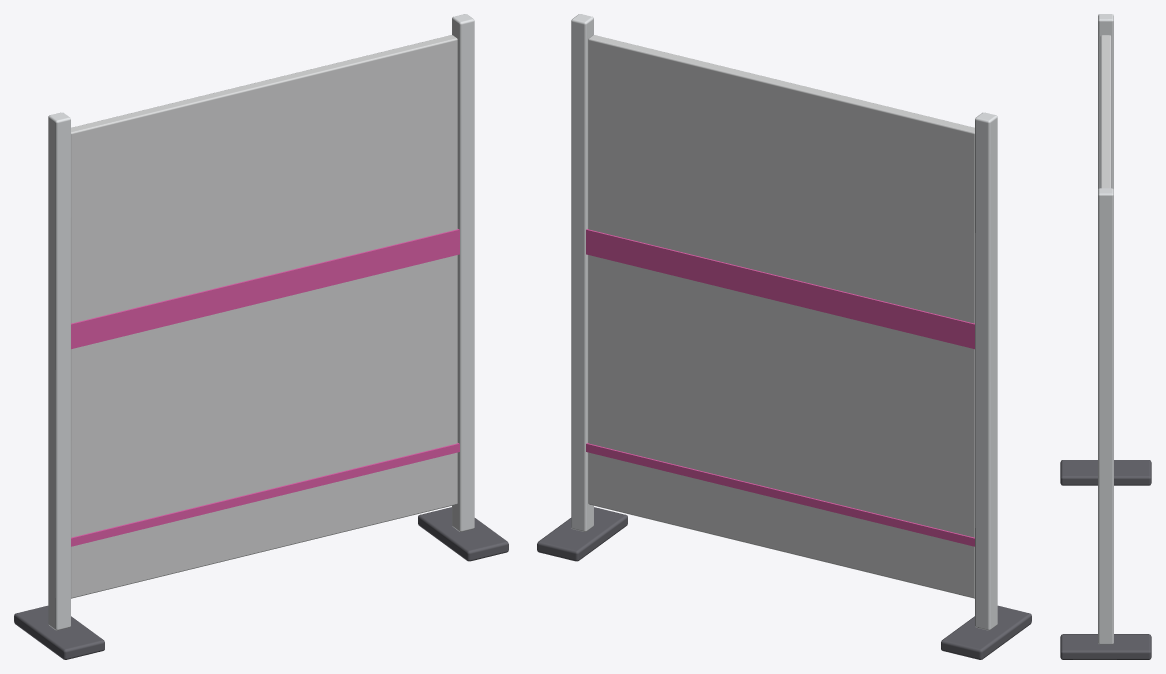
The model's file is tattoo-and-piercing-studio-booth-divider-panel-84aca573__34526.glb.
The picture shows the model from 3 angles, left to right: view 1: azimuth 30°, elevation 25°; view 2: azimuth 150°, elevation 25°; view 3: azimuth 270°, elevation 25°; orthographic projection. The views are drawn at different scales.
Visible parts, largest first — view 1: booth-divider-panel; view 2: booth-divider-panel; view 3: booth-divider-panel.
Part boxes in pixels (box(x1,y1,x2,y2)): booth-divider-panel: box(14, 14, 508, 659); booth-divider-panel: box(537, 14, 1031, 659); booth-divider-panel: box(1060, 14, 1151, 659).
Bounding box in the file's own units: 1.7 × 1.9 × 0.3399.
